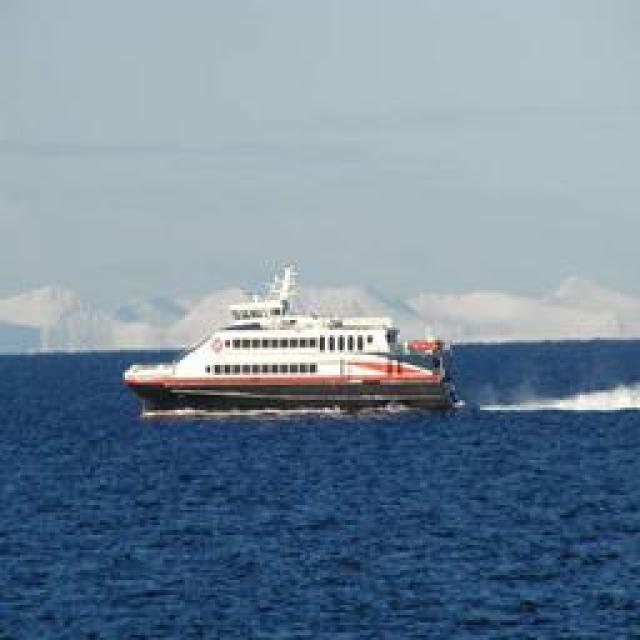CIV_Ship: (126, 261, 452, 414)
